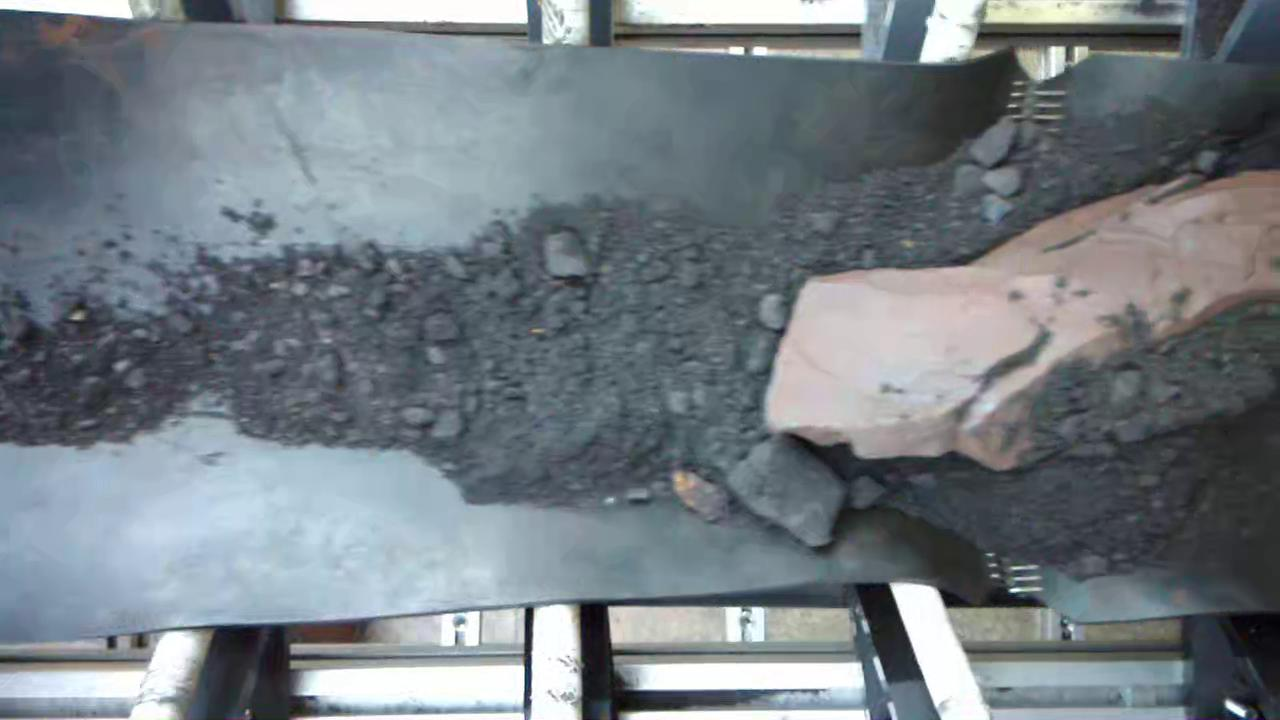conveyor: (0, 66, 1280, 593)
